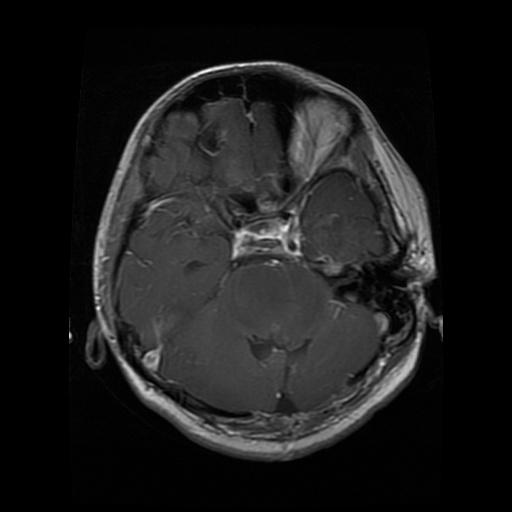glioma: (304, 172, 383, 266)
